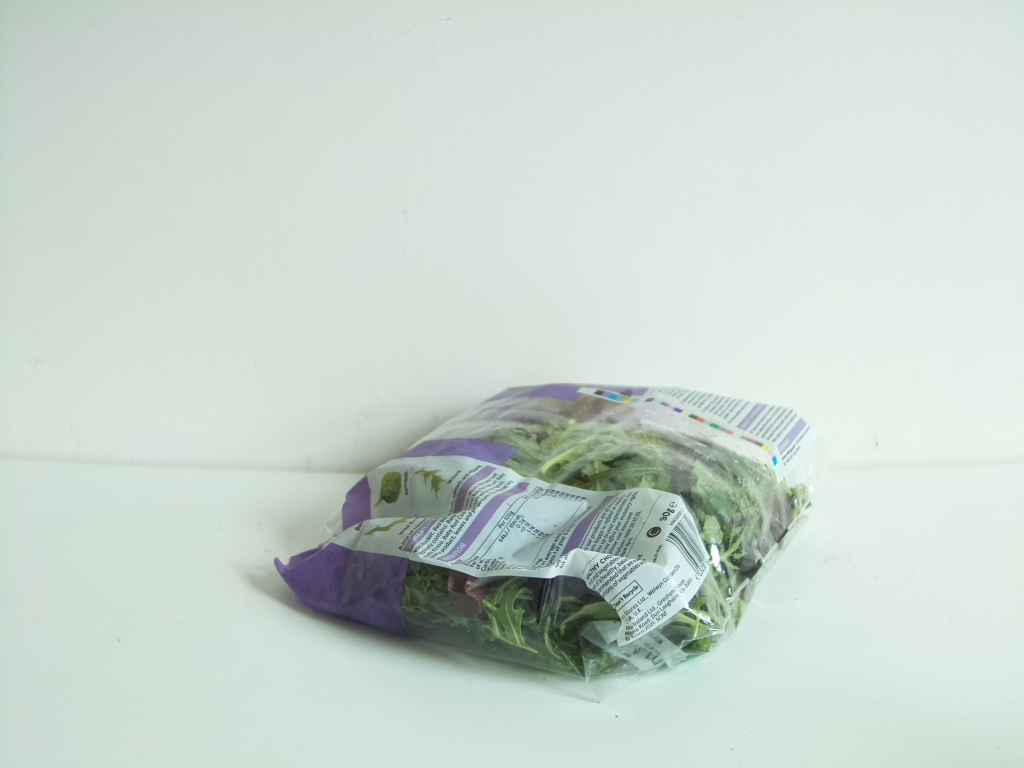salad: (289, 384, 817, 677)
